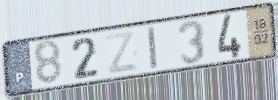2: (70, 37, 101, 81)
3: (177, 16, 208, 68)
4: (216, 12, 244, 61)
8: (32, 39, 67, 87)
I: (147, 24, 160, 71)
Z: (103, 28, 141, 77)
